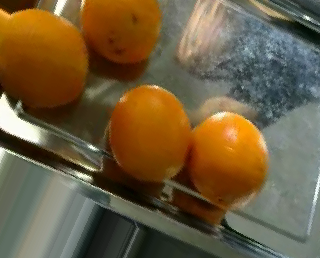Orange: (1, 8, 89, 107), (106, 83, 188, 183), (189, 111, 268, 210), (79, 1, 163, 65)
